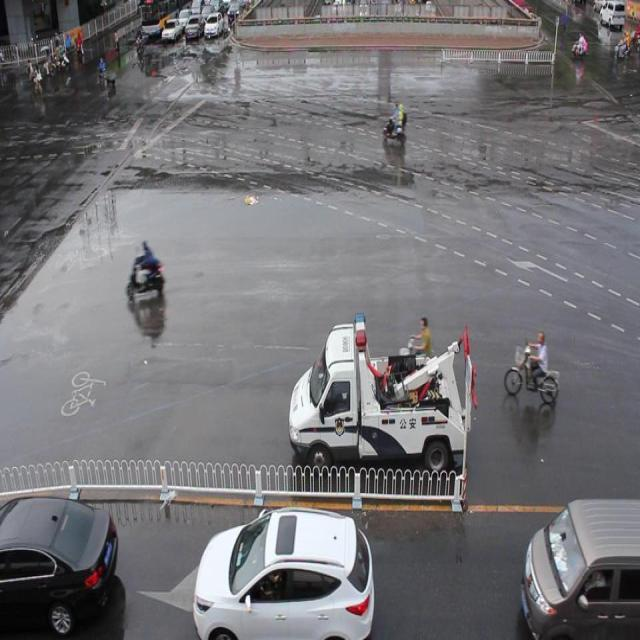bus: (289, 308, 475, 475)
car: (193, 501, 373, 640), (0, 494, 119, 632)
truck: (518, 495, 640, 640)
